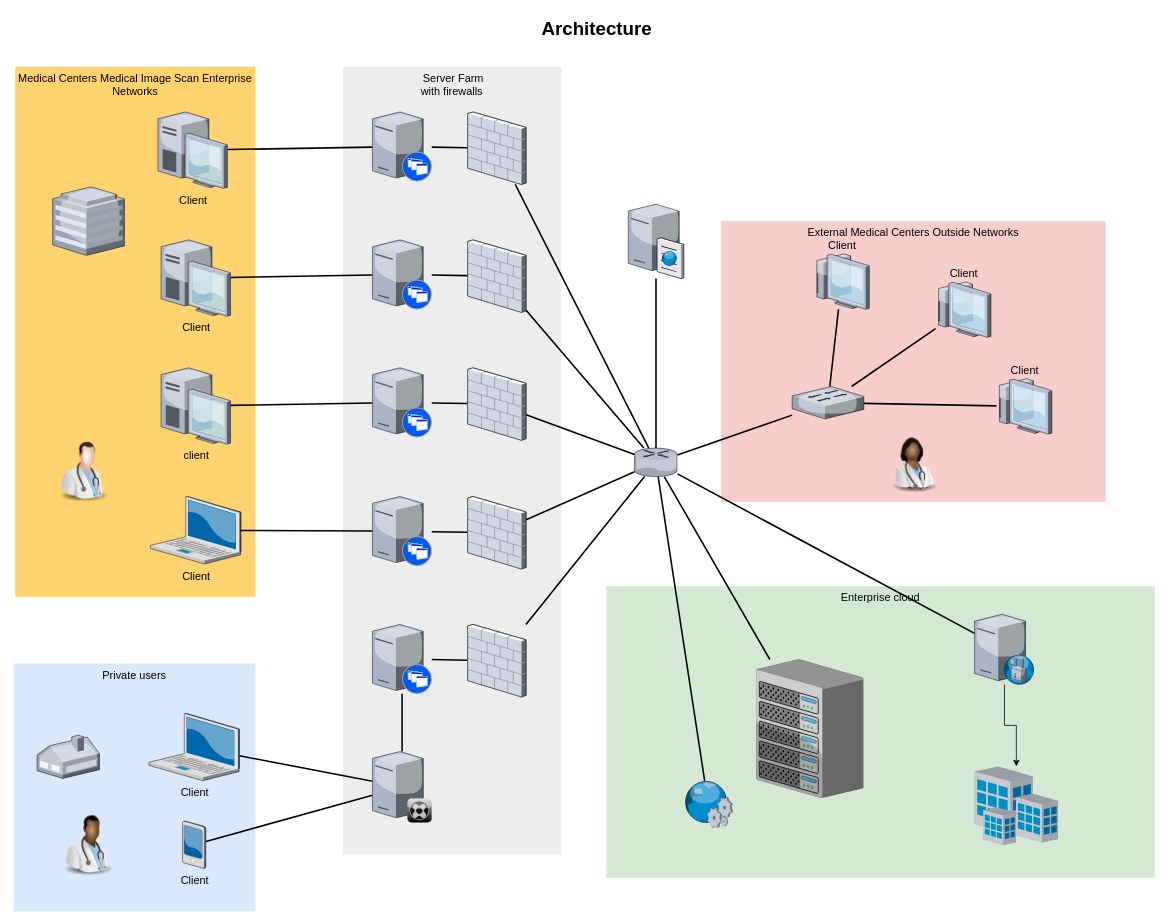
Some shapes in this 1168 by 924 pixel diagram are drawn without their labels. Here are the shapes that lost their labels. From the top down, the centre of each, then its label:
At (655,240): "Web Server".
At (1004,649): "Secure Server".
At (809,728): "DNS".
At (707,803): "Web App to extract Text From Images".
